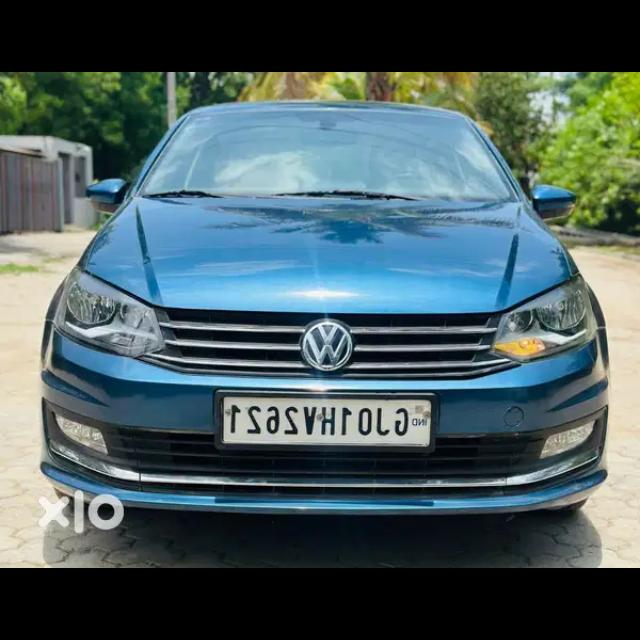number-plate: (220, 393, 437, 447)
vehicles: (32, 114, 617, 551)
